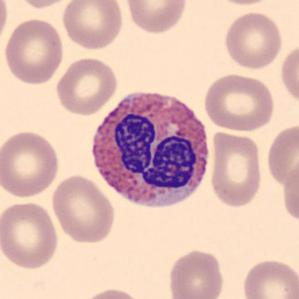Eosinophil: (85, 81, 215, 216)
RBC: (49, 173, 117, 246), (1, 15, 66, 87), (200, 72, 277, 132), (208, 128, 264, 210), (0, 127, 62, 200), (0, 199, 61, 271), (53, 55, 120, 117), (222, 9, 284, 71), (59, 0, 125, 51), (165, 247, 226, 299), (240, 256, 298, 299), (122, 0, 190, 36), (264, 121, 298, 189), (280, 153, 299, 228), (278, 40, 298, 107), (78, 286, 144, 299), (12, 0, 78, 10), (0, 0, 10, 49), (210, 0, 278, 7)
